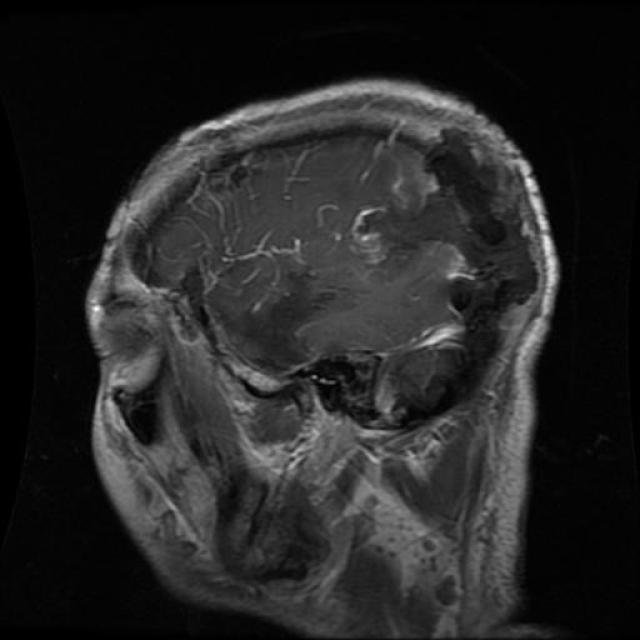glioma_tumor: (336, 135, 535, 294)
